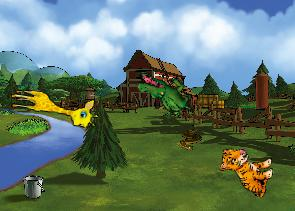crocodile: (134, 71, 197, 114)
giraffe: (7, 87, 100, 130)
tiger: (216, 145, 276, 198)
